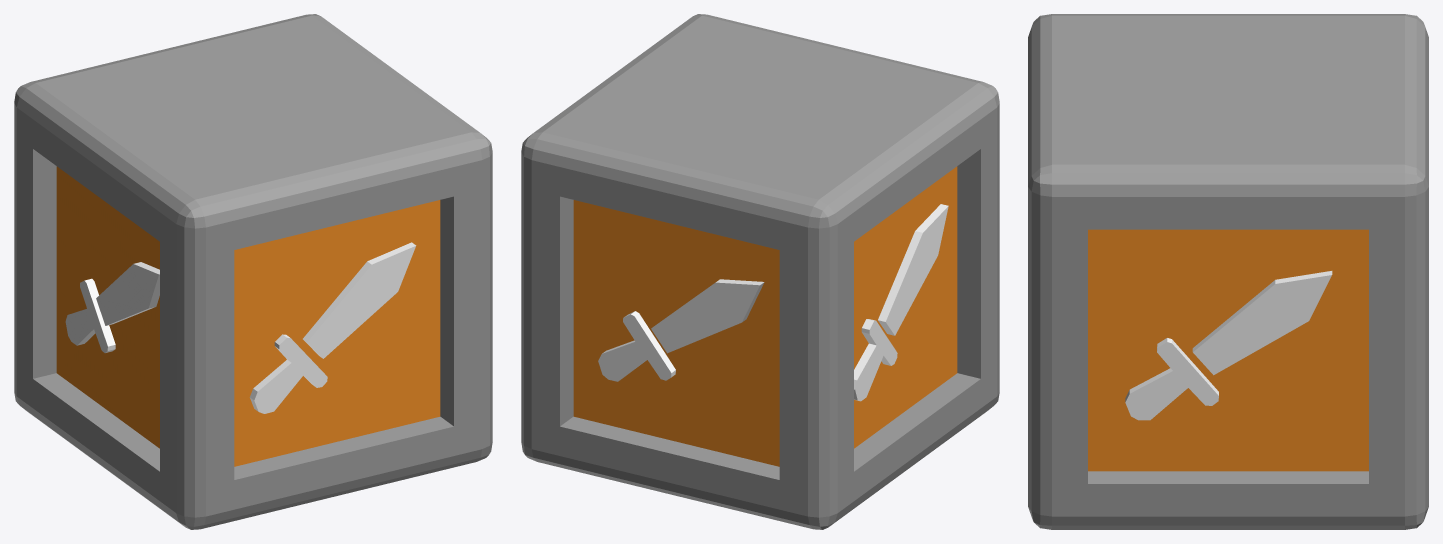
The model's file is Sword Box.fbx.
The picture shows the model from 3 angles, left to right: view 1: azimuth 30°, elevation 25°; view 2: azimuth 150°, elevation 25°; view 3: azimuth 270°, elevation 25°; orthographic projection. The views are drawn at different scales.
Parts seen in each view (by area): view 1: Sword Box, Sword Icon; view 2: Sword Box, Sword Icon; view 3: Sword Box, Sword Icon.
Part boxes in pixels (bbox=[...]): Sword Box: bbox=[14, 14, 492, 529]; Sword Icon: bbox=[65, 242, 416, 413]; Sword Box: bbox=[521, 14, 999, 529]; Sword Icon: bbox=[598, 204, 948, 401]; Sword Box: bbox=[1028, 14, 1428, 529]; Sword Icon: bbox=[1125, 271, 1332, 420].
Bounding box in the file's own units: 200 × 200 × 200.
